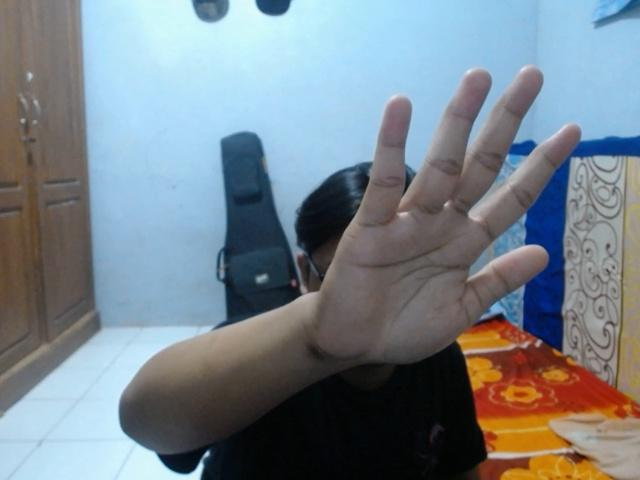Release: (313, 60, 586, 370)
